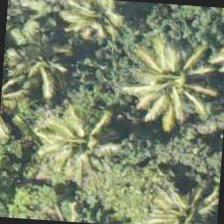Kelapa_Sawit: (8, 85, 104, 181), (111, 39, 207, 135), (48, 0, 144, 73), (132, 169, 220, 223)
